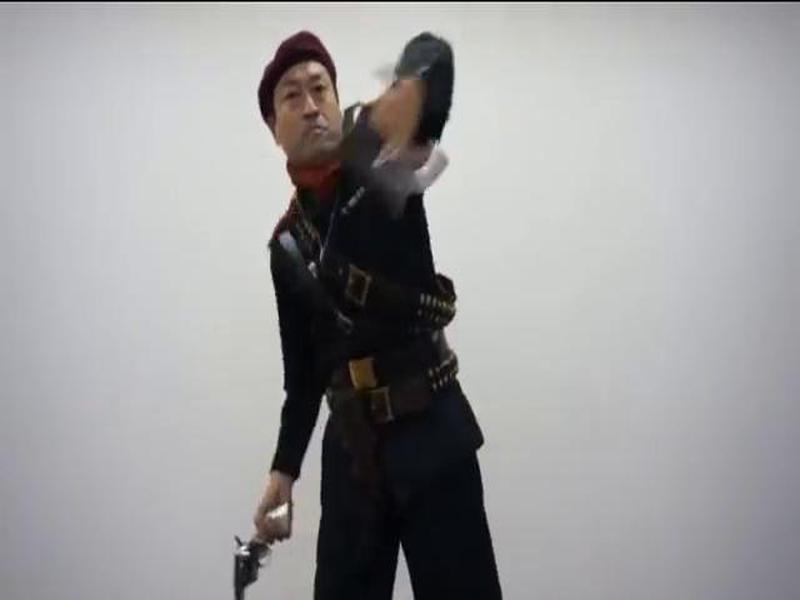Revolver: (220, 498, 300, 600)
